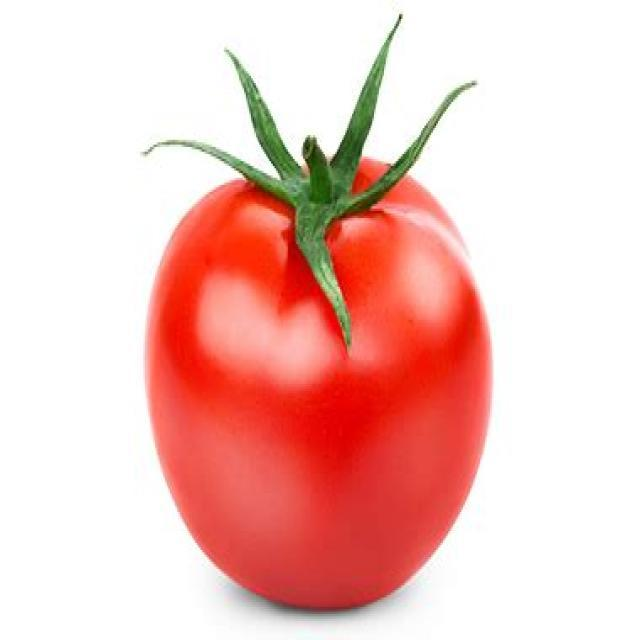Tomato: (142, 36, 495, 614)
